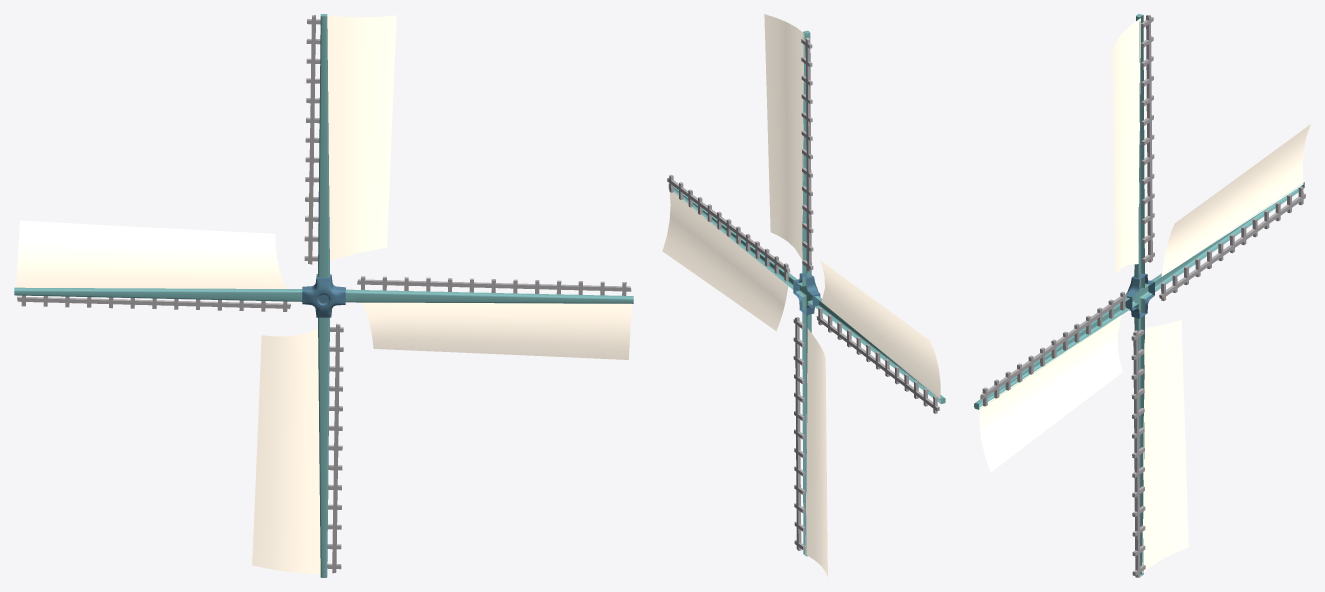
Rendered from fan.glb.
3 views of the same model, side by side, from view 1: azimuth 30°, elevation 25°; view 2: azimuth 150°, elevation 25°; view 3: azimuth 270°, elevation 25° (orthographic). The views are drawn at different scales.
Visible parts, largest first — view 1: canvas, blade-sticks, blade-grids, blade-center; view 2: canvas, blade-grids, blade-sticks, blade-center; view 3: canvas, blade-grids, blade-sticks, blade-center.
Part boxes in pixels (x1,y1,x2,y2): canvas: [16, 15, 631, 573]; blade-sticks: [14, 14, 633, 577]; blade-grids: [17, 15, 631, 573]; blade-center: [302, 274, 345, 317]; canvas: [662, 14, 940, 577]; blade-grids: [667, 37, 939, 550]; blade-sticks: [668, 30, 945, 556]; blade-center: [793, 273, 820, 315]; canvas: [979, 18, 1310, 573]; blade-grids: [980, 15, 1305, 577]; blade-sticks: [974, 14, 1304, 576]; blade-center: [1125, 273, 1154, 318].
Size of the model in its own units: 10.27 by 11.99 by 6.54.
